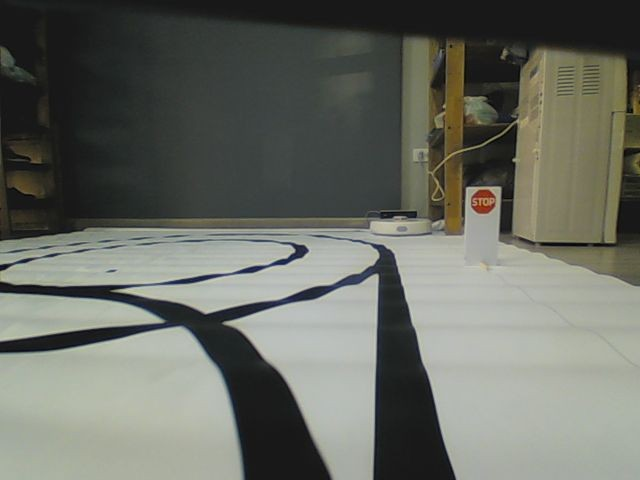Stop: (469, 189, 498, 215)
